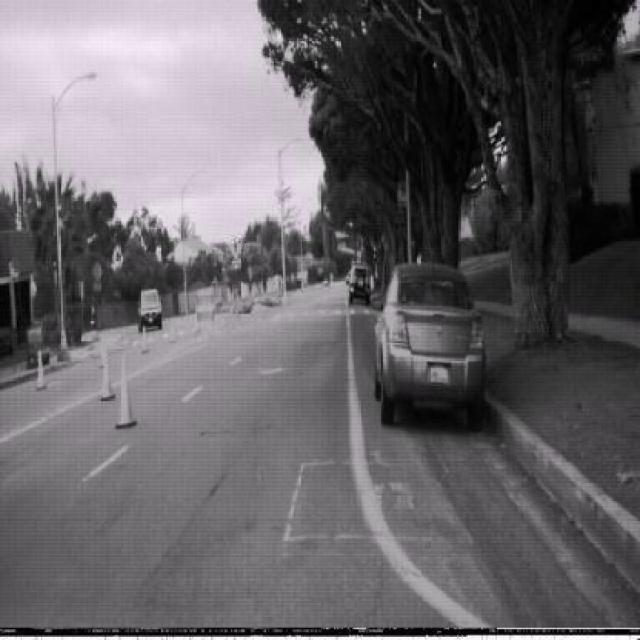pedestrianCrossing: (228, 236, 242, 262)
